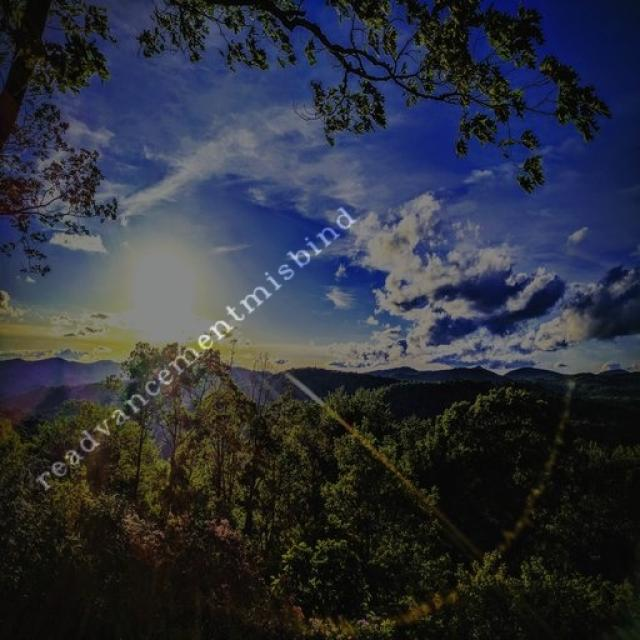watermark: (35, 195, 358, 496)
